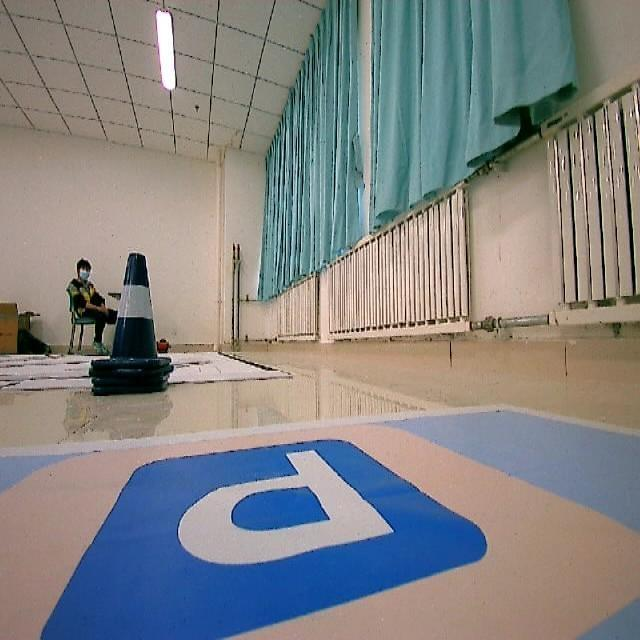obstacle: (94, 246, 177, 410)
